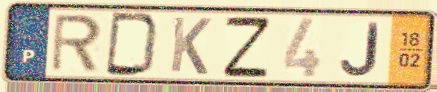4: (282, 16, 324, 81)
D: (103, 10, 163, 79)
J: (338, 21, 382, 79)
K: (167, 14, 214, 78)
R: (49, 12, 104, 74)
Z: (221, 15, 272, 79)
